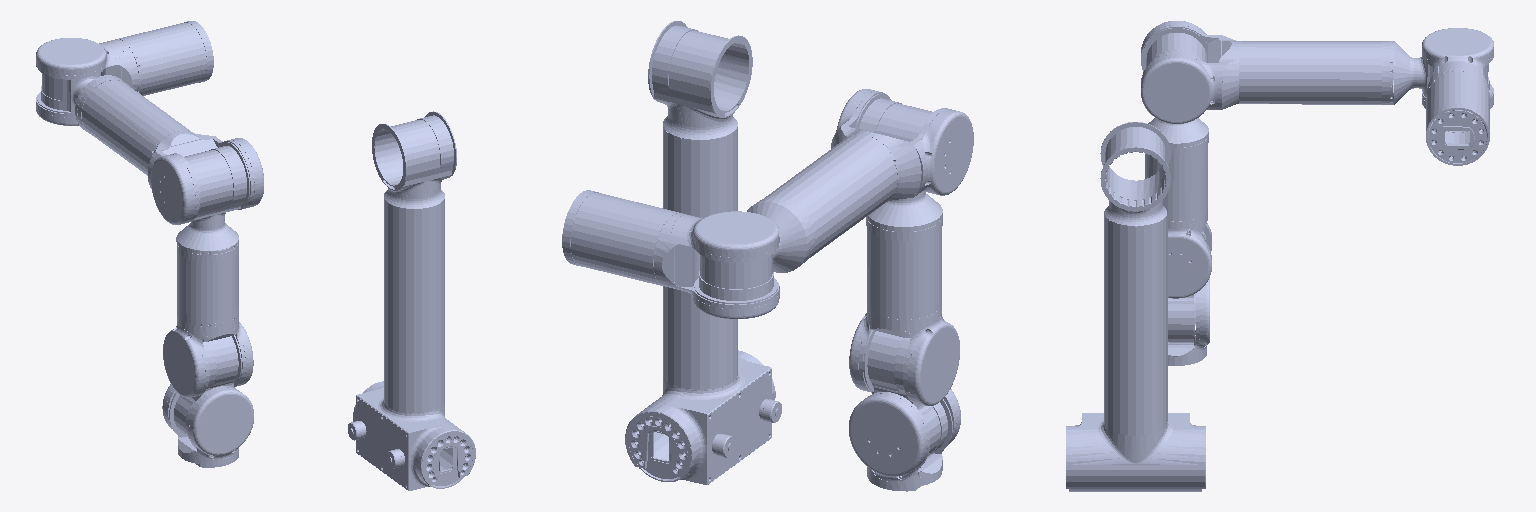
The robot description file, URDF, robot "mk2":
<robot
  name="mk2">
  <link
    name="torso_roll_link">
    <inertial>
      <origin
        xyz="6.75249629932648E-08 0.233960353769092 -0.0050067279784306"
        rpy="0 0 0" />
      <mass
        value="0.293335697547887" />
      <inertia
        ixx="0.00578530758836677"
        ixy="-7.31707616710764E-10"
        ixz="-1.75775564632839E-08"
        iyy="0.000677304130480278"
        iyz="-0.000219289414052928"
        izz="0.00606444160061948" />
    </inertial>
    <visual>
      <origin
        xyz="0 0 0"
        rpy="0 0 0" />
      <geometry>
        <mesh
          filename="package://mk2/meshes/torso_roll_link.STL" />
      </geometry>
      <material
        name="">
        <color
          rgba="0.792156862745098 0.819607843137255 0.933333333333333 1" />
      </material>
    </visual>
    <collision>
      <origin
        xyz="0 0 0"
        rpy="0 0 0" />
      <geometry>
        <mesh
          filename="package://mk2/meshes/torso_roll_link.STL" />
      </geometry>
    </collision>
  </link>
  <link
    name="right_shoulder_pitch_link">
    <inertial>
      <origin
        xyz="-0.000945723268495749 -5.75524150236983E-05 -0.110098356309085"
        rpy="0 0 0" />
      <mass
        value="0.163443866563097" />
      <inertia
        ixx="0.000541018004036177"
        ixy="-1.62628022066945E-08"
        ixz="9.49719942320387E-06"
        iyy="0.00055998509079004"
        iyz="1.83898457267936E-07"
        izz="0.000176694494660094" />
    </inertial>
    <visual>
      <origin
        xyz="0 0 0"
        rpy="0 0 0" />
      <geometry>
        <mesh
          filename="package://mk2/meshes/right_shoulder_pitch_link.STL" />
      </geometry>
      <material
        name="">
        <color
          rgba="0.792156862745098 0.819607843137255 0.933333333333333 1" />
      </material>
    </visual>
    <collision>
      <origin
        xyz="0 0 0"
        rpy="0 0 0" />
      <geometry>
        <mesh
          filename="package://mk2/meshes/right_shoulder_pitch_link.STL" />
      </geometry>
    </collision>
  </link>
  <joint
    name="right_shoulder_pitch_joint"
    type="revolute">
    <origin
      xyz="-0.0754 0.36378 0"
      rpy="1.57 -1.57 1.57" />
    <parent
      link="torso_roll_link" />
    <child
      link="right_shoulder_pitch_link" />
    <axis
      xyz="0 0 -1" />
    <limit 
      effort="30" velocity="1.0" lower="-1.57" upper="1.57" />
  </joint>
  <link
    name="right_shoulder_roll_link">
    <inertial>
      <origin
        xyz="-0.000393320110424783 -0.0428351273894357 -0.00178233794530914"
        rpy="0 0 0" />
      <mass
        value="0.0635014085130222" />
      <inertia
        ixx="9.22926705897114E-05"
        ixy="7.99958336746189E-07"
        ixz="-4.48580587139913E-08"
        iyy="4.64666186767237E-05"
        iyz="-5.63299412392605E-06"
        izz="9.49758908565645E-05" />
    </inertial>
    <visual>
      <origin
        xyz="0 0 0"
        rpy="0 0 0" />
      <geometry>
        <mesh
          filename="package://mk2/meshes/right_shoulder_roll_link.STL" />
      </geometry>
      <material
        name="">
        <color
          rgba="0.792156862745098 0.819607843137255 0.933333333333333 1" />
      </material>
    </visual>
    <collision>
      <origin
        xyz="0 0 0"
        rpy="0 0 0" />
      <geometry>
        <mesh
          filename="package://mk2/meshes/right_shoulder_roll_link.STL" />
      </geometry>
    </collision>
  </link>
  <joint
    name="right_shoulder_roll_joint"
    type="revolute">
    <origin
      xyz="0 0 -0.17412"
      rpy="3.14 -1.57 0" />
    <parent
      link="right_shoulder_pitch_link" />
    <child
      link="right_shoulder_roll_link" />
    <axis
      xyz="0 0 -1" />
    <limit 
      effort="30" velocity="1.0" lower="-0.4" upper="3.14" />
  </joint>
  <link
    name="right_shoulder_yaw_link">
    <inertial>
      <origin
        xyz="6.37165040110046E-06 0.00238860497459617 -0.166767878999537"
        rpy="0 0 0" />
      <mass
        value="0.234264177667547" />
      <inertia
        ixx="0.00139590246325816"
        ixy="7.50525687812593E-10"
        ixz="-3.30705012330942E-08"
        iyy="0.00128382682336014"
        iyz="-4.30079647499972E-05"
        izz="0.00033254645794358" />
    </inertial>
    <visual>
      <origin
        xyz="0 0 0"
        rpy="0 0 0" />
      <geometry>
        <mesh
          filename="package://mk2/meshes/right_shoulder_yaw_link.STL" />
      </geometry>
      <material
        name="">
        <color
          rgba="0.792156862745098 0.819607843137255 0.933333333333333 1" />
      </material>
    </visual>
    <collision>
      <origin
        xyz="0 0 0"
        rpy="0 0 0" />
      <geometry>
        <mesh
          filename="package://mk2/meshes/right_shoulder_yaw_link.STL" />
      </geometry>
    </collision>
  </link>
  <joint
    name="right_shoulder_yaw_joint"
    type="revolute">
    <origin
      xyz="0 -0.073 0"
      rpy="-1.57 1.57 0" />
    <parent
      link="right_shoulder_roll_link" />
    <child
      link="right_shoulder_yaw_link" />
    <axis
      xyz="0 0 1" />
    <limit 
      effort="30" velocity="1.0" lower="-1.57" upper="1.57" />
  </joint>
  <link
    name="right_elbow_pitch_link">
    <inertial>
      <origin
        xyz="-0.000360440502475634 0.0408954090865386 0.00105765467601504"
        rpy="0 0 0" />
      <mass
        value="0.0687829523644407" />
      <inertia
        ixx="0.000106324772601317"
        ixy="-8.44268471324609E-07"
        ixz="2.61073416339683E-08"
        iyy="5.76141023403317E-05"
        iyz="-2.77922758110826E-06"
        izz="0.000105076946485533" />
    </inertial>
    <visual>
      <origin
        xyz="0 0 0"
        rpy="0 0 0" />
      <geometry>
        <mesh
          filename="package://mk2/meshes/right_elbow_pitch_link.STL" />
      </geometry>
      <material
        name="">
        <color
          rgba="0.792156862745098 0.819607843137255 0.933333333333333 1" />
      </material>
    </visual>
    <collision>
      <origin
        xyz="0 0 0"
        rpy="0 0 0" />
      <geometry>
        <mesh
          filename="package://mk2/meshes/right_elbow_pitch_link.STL" />
      </geometry>
    </collision>
  </link>
  <joint
    name="right_elbow_pitch_joint"
    type="revolute">
    <origin
      xyz="0 0 -0.24462"
      rpy="-1.57 1.57 -3.14" />
    <parent
      link="right_shoulder_yaw_link" />
    <child
      link="right_elbow_pitch_link" />
    <axis
      xyz="0 0 -1" />
    <limit 
      effort="30" velocity="1.0" lower="-0.5" upper="3.14" />
  </joint>
  <link
    name="right_wrist_yaw_link">
    <inertial>
      <origin
        xyz="6.83765934338387E-05 -0.0985935102273398 0.00124157512236639"
        rpy="0 0 0" />
      <mass
        value="0.143237901554334" />
      <inertia
        ixx="0.000407431901915526"
        ixy="-1.82700571936414E-07"
        ixz="-1.19533565678743E-08"
        iyy="0.000156695313739821"
        iyz="-8.79427099771474E-06"
        izz="0.000390076332830964" />
    </inertial>
    <visual>
      <origin
        xyz="0 0 0"
        rpy="0 0 0" />
      <geometry>
        <mesh
          filename="package://mk2/meshes/right_wrist_yaw_link.STL" />
      </geometry>
      <material
        name="">
        <color
          rgba="0.792156862745098 0.819607843137255 0.933333333333333 1" />
      </material>
    </visual>
    <collision>
      <origin
        xyz="0 0 0"
        rpy="0 0 0" />
      <geometry>
        <mesh
          filename="package://mk2/meshes/right_wrist_yaw_link.STL" />
      </geometry>
    </collision>
  </link>
  <joint
    name="right_wrist_yaw_joint"
    type="revolute">
    <origin
      xyz="0 0.0732 0"
      rpy="0 0 3.14" />
    <parent
      link="right_elbow_pitch_link" />
    <child
      link="right_wrist_yaw_link" />
    <axis
      xyz="0 -1 0" />
    <limit 
      effort="30" velocity="1.0" lower="-1.57" upper="1.57" />
  </joint>
  <link
    name="right_wrist_pitch_link">
    <inertial>
      <origin
        xyz="-0.000408944798772404 -0.0370500000009173 -0.000408944801744304"
        rpy="0 0 0" />
      <mass
        value="0.0439051251850394" />
      <inertia
        ixx="7.67509542483871E-05"
        ixy="1.01266452217356E-06"
        ixz="-7.34251086486088E-09"
        iyy="3.22048578317638E-05"
        iyz="-1.0126645215248E-06"
        izz="7.67509542488895E-05" />
    </inertial>
    <visual>
      <origin
        xyz="0 0 0"
        rpy="0 0 0" />
      <geometry>
        <mesh
          filename="package://mk2/meshes/right_wrist_pitch_link.STL" />
      </geometry>
      <material
        name="">
        <color
          rgba="0.792156862745098 0.819607843137255 0.933333333333333 1" />
      </material>
    </visual>
    <collision>
      <origin
        xyz="0 0 0"
        rpy="0 0 0" />
      <geometry>
        <mesh
          filename="package://mk2/meshes/right_wrist_pitch_link.STL" />
      </geometry>
    </collision>
  </link>
  <joint
    name="right_wrist_pitch_joint"
    type="revolute">
    <origin
      xyz="0 -0.15124 0"
      rpy="0 0 0" />
    <parent
      link="right_wrist_yaw_link" />
    <child
      link="right_wrist_pitch_link" />
    <axis
      xyz="0 0 -1" />
    <limit 
      effort="30" velocity="1.0" lower="-1.57" upper="1.57" />
  </joint>
  <link
    name="right_wrist_roll_link">
    <inertial>
      <origin
        xyz="0.00215013326717001 -0.0219675542935256 0.00061794100279644"
        rpy="0 0 0" />
      <mass
        value="0.0825624287077396" />
      <inertia
        ixx="0.000108263415959971"
        ixy="3.36877167007395E-06"
        ixz="-1.09626858677818E-07"
        iyy="9.54648112890784E-05"
        iyz="-1.58400249287222E-06"
        izz="0.000125428179179394" />
    </inertial>
    <visual>
      <origin
        xyz="0 0 0"
        rpy="0 0 0" />
      <geometry>
        <mesh
          filename="package://mk2/meshes/right_wrist_roll_link.STL" />
      </geometry>
      <material
        name="">
        <color
          rgba="0.792156862745098 0.819607843137255 0.933333333333333 1" />
      </material>
    </visual>
    <collision>
      <origin
        xyz="0 0 0"
        rpy="0 0 0" />
      <geometry>
        <mesh
          filename="package://mk2/meshes/right_wrist_roll_link.STL" />
      </geometry>
    </collision>
  </link>
  <joint
    name="right_wrist_roll_joint"
    type="revolute">
    <origin
      xyz="0 -0.07 0"
      rpy="0 0 0" />
    <parent
      link="right_wrist_pitch_link" />
    <child
      link="right_wrist_roll_link" />
    <axis
      xyz="1 0 0" />
    <limit 
      effort="30" velocity="1.0" lower="-1.57" upper="1.57" />
  </joint>
</robot>

--- What the picture shows (computed from the rendered views, not written in the file) ---
Views: 3 orthographic renders of the robot side by side, from view 1: azimuth 30°, elevation 25°; view 2: azimuth 150°, elevation 25°; view 3: azimuth 270°, elevation 25°.
Robot: mk2 — 8 links, 7 joints (7 revolute); root link torso_roll_link; default pose: every joint at zero.
Links seen in each view (by area): view 1: torso_roll_link, right_shoulder_yaw_link, right_shoulder_pitch_link, right_wrist_yaw_link, right_elbow_pitch_link, right_wrist_roll_link, right_wrist_pitch_link, right_shoulder_roll_link; view 2: torso_roll_link, right_shoulder_yaw_link, right_shoulder_pitch_link, right_wrist_yaw_link, right_wrist_roll_link, right_shoulder_roll_link, right_elbow_pitch_link, right_wrist_pitch_link; view 3: torso_roll_link, right_shoulder_yaw_link, right_shoulder_pitch_link, right_wrist_yaw_link, right_elbow_pitch_link, right_shoulder_roll_link, right_wrist_roll_link, right_wrist_pitch_link.
Boxes of the visible links, left/top/right/bottom form: torso_roll_link: left=348, top=111, right=475, bottom=490; right_shoulder_yaw_link: left=77, top=77, right=263, bottom=224; right_shoulder_pitch_link: left=36, top=21, right=213, bottom=125; right_wrist_yaw_link: left=163, top=245, right=253, bottom=397; right_elbow_pitch_link: left=176, top=142, right=249, bottom=254; right_wrist_roll_link: left=162, top=384, right=253, bottom=467; right_wrist_pitch_link: left=169, top=335, right=241, bottom=448; right_shoulder_roll_link: left=37, top=71, right=122, bottom=131; torso_roll_link: left=625, top=21, right=781, bottom=484; right_shoulder_yaw_link: left=757, top=89, right=973, bottom=262; right_shoulder_pitch_link: left=562, top=190, right=779, bottom=318; right_wrist_yaw_link: left=849, top=218, right=959, bottom=405; right_wrist_roll_link: left=849, top=389, right=960, bottom=491; right_shoulder_roll_link: left=694, top=200, right=809, bottom=304; right_elbow_pitch_link: left=855, top=93, right=942, bottom=231; right_wrist_pitch_link: left=863, top=330, right=952, bottom=467; torso_roll_link: left=1066, top=122, right=1205, bottom=491; right_shoulder_yaw_link: left=1141, top=21, right=1389, bottom=123; right_shoulder_pitch_link: left=1422, top=28, right=1493, bottom=165; right_wrist_yaw_link: left=1145, top=137, right=1211, bottom=298; right_elbow_pitch_link: left=1142, top=28, right=1208, bottom=147; right_shoulder_roll_link: left=1390, top=41, right=1492, bottom=104; right_wrist_roll_link: left=1168, top=278, right=1209, bottom=365; right_wrist_pitch_link: left=1168, top=227, right=1210, bottom=345.
Bounding box of the posed robot: 0.3417 × 0.4844 × 0.4429 m (x, y, z).
Meshes: 8 distinct files referenced, 8 mesh visuals loaded (8 binary STL).